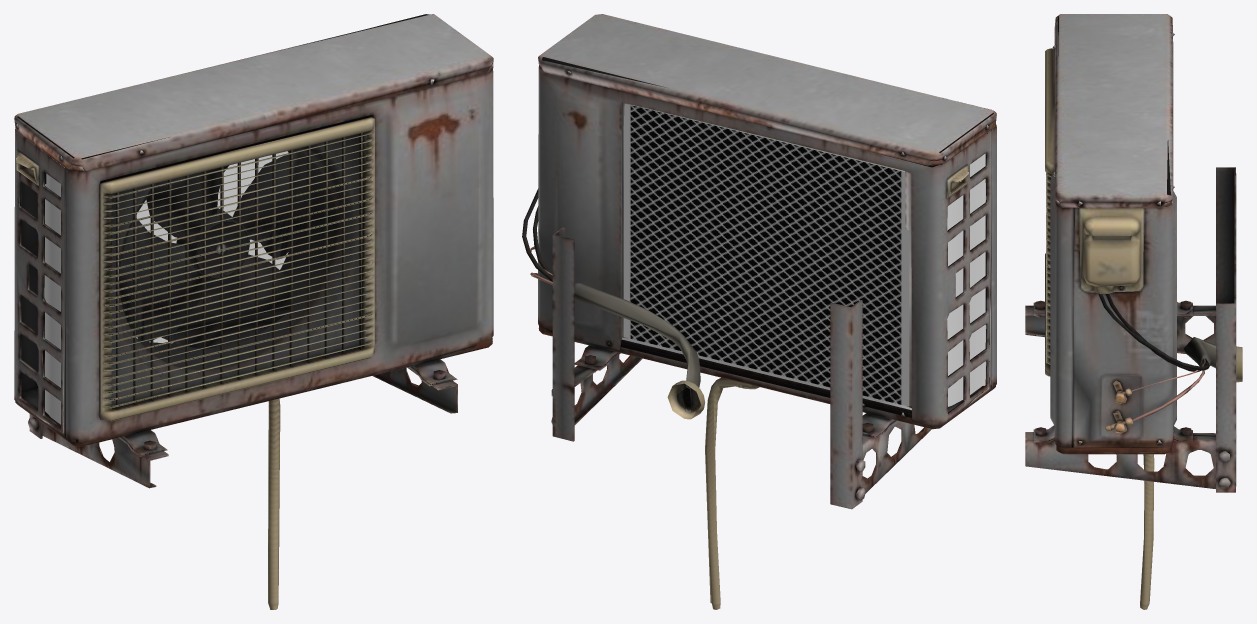
File: aircon.glb
The picture shows the model from 3 angles, left to right: view 1: azimuth 30°, elevation 25°; view 2: azimuth 150°, elevation 25°; view 3: azimuth 270°, elevation 25°; orthographic projection. The views are drawn at different scales.
Parts seen in each view (by area): view 1: exterior_aircon_unit_rusted; view 2: exterior_aircon_unit_rusted; view 3: exterior_aircon_unit_rusted.
Boxes of the visible parts, left/top/right/bottom form: exterior_aircon_unit_rusted: left=14, top=14, right=493, bottom=609; exterior_aircon_unit_rusted: left=522, top=14, right=996, bottom=609; exterior_aircon_unit_rusted: left=1025, top=14, right=1242, bottom=609.
Size of the model in its own units: 0.7994 by 0.9279 by 0.3742.
2 materials, 2 textured.
